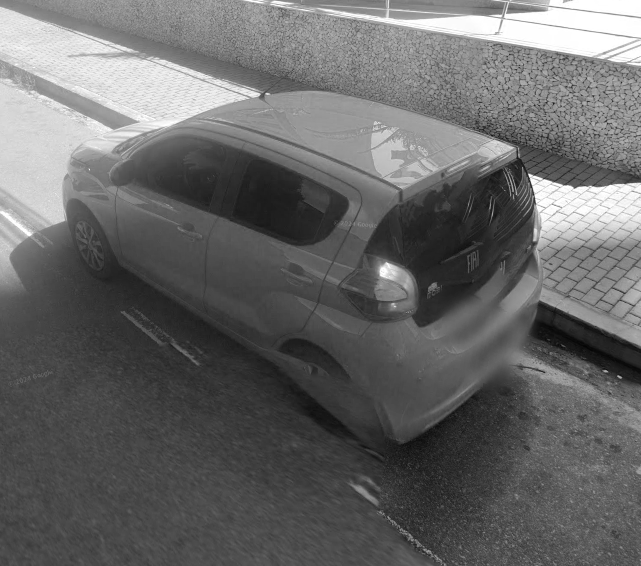car: (60, 64, 547, 462)
